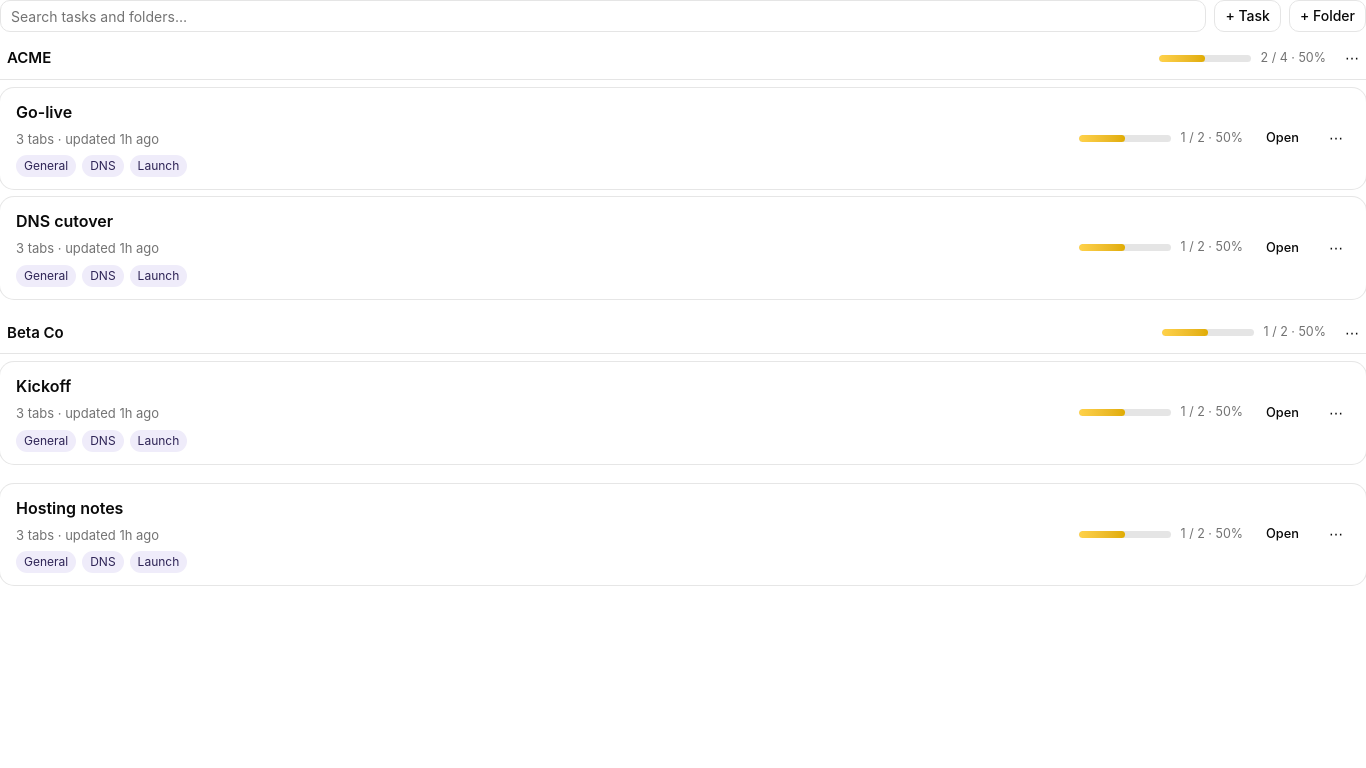
Scenario: TaskTree › clears the refusal once a later write succeeds
Step 1. Click the button "+ Folder" → (1327,16), box [1289, 0, 1365, 32]
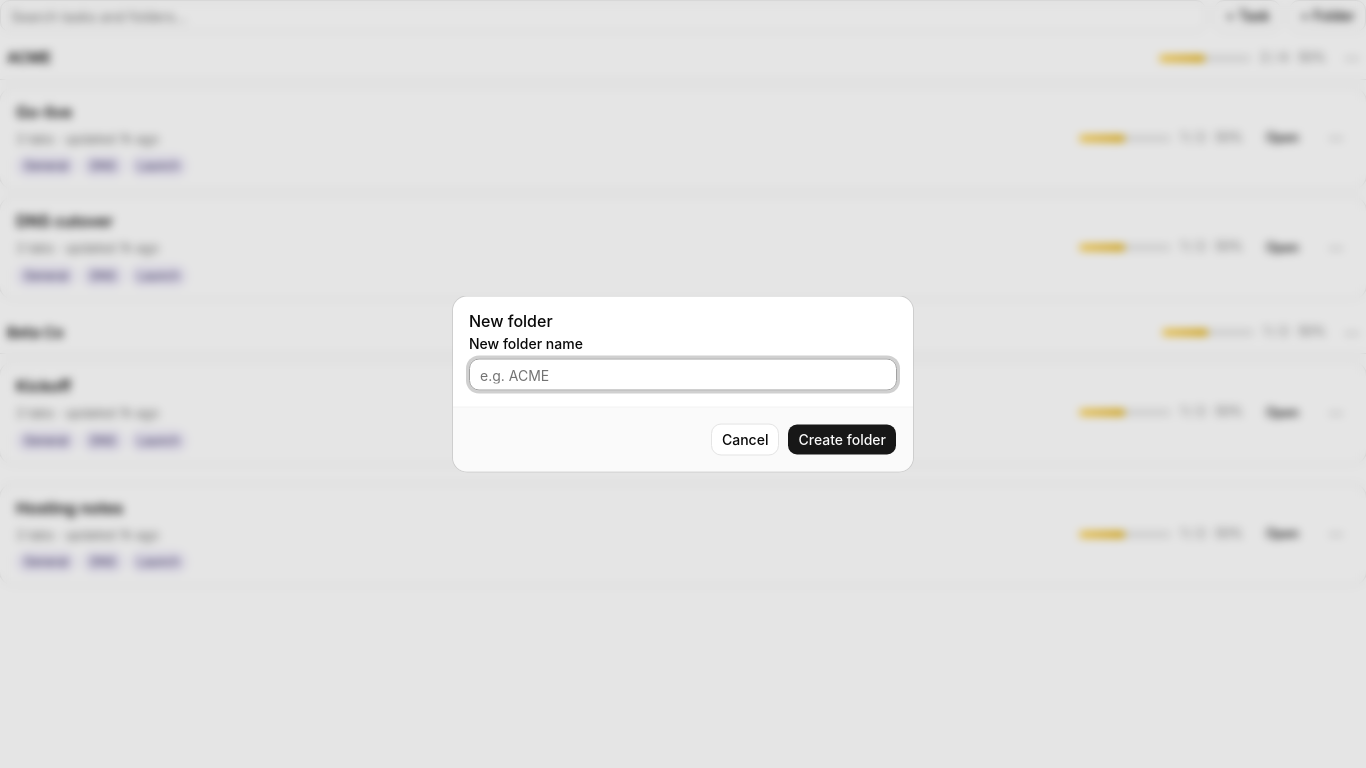
Step 2. Type "Gamma" into the field labelled "New folder name" → (683,374), box [469, 358, 897, 390]
Then press Enter
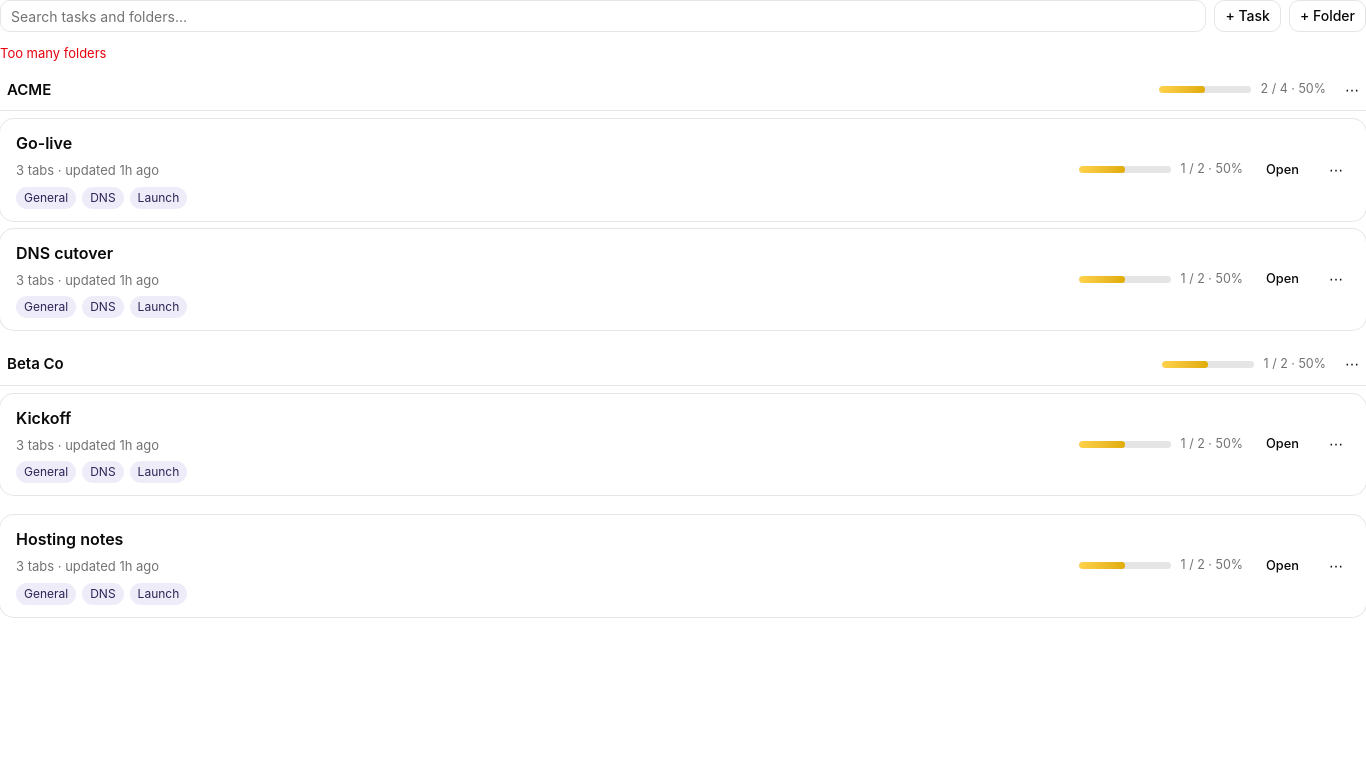
Step 3. Click the button "+ Folder" → (1327,16), box [1289, 0, 1365, 32]
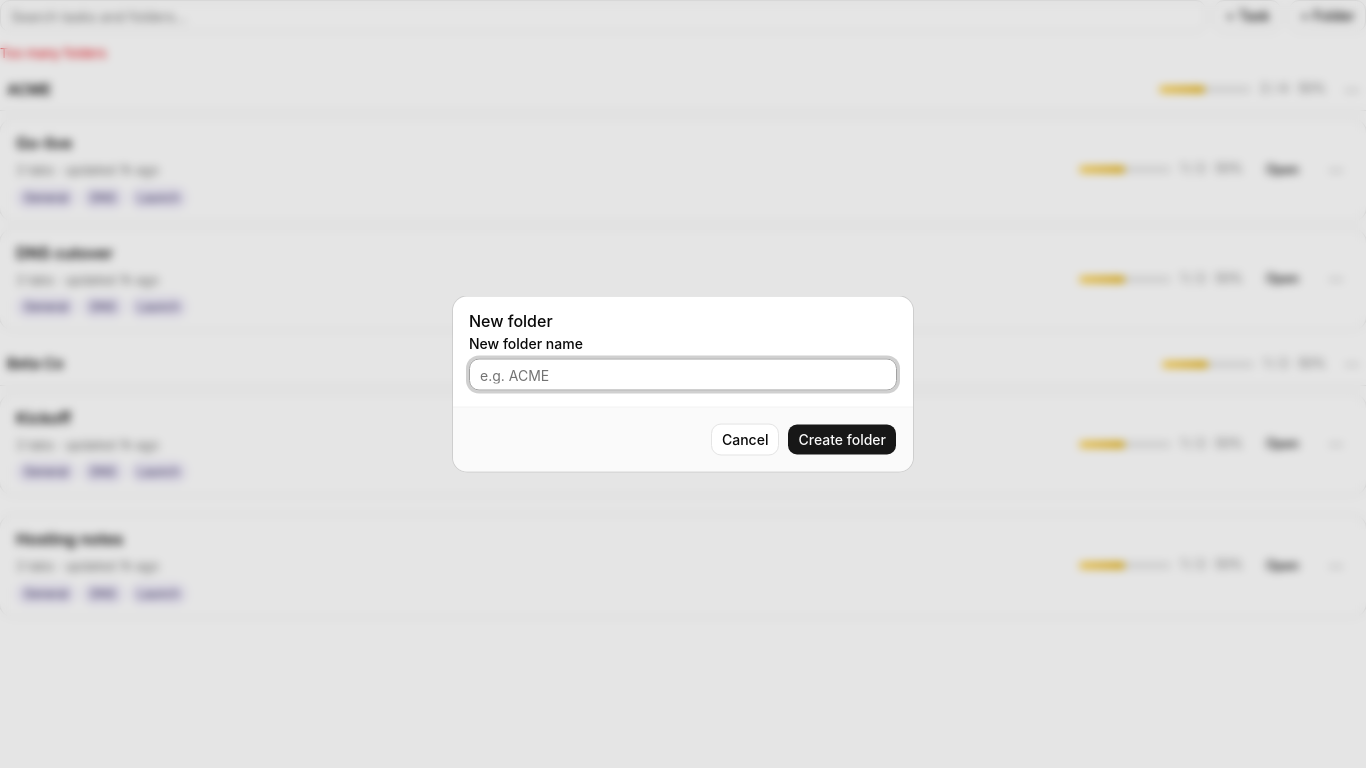
Step 4. Type "Delta" into the field labelled "New folder name" → (683,374), box [469, 358, 897, 390]
Then press Enter
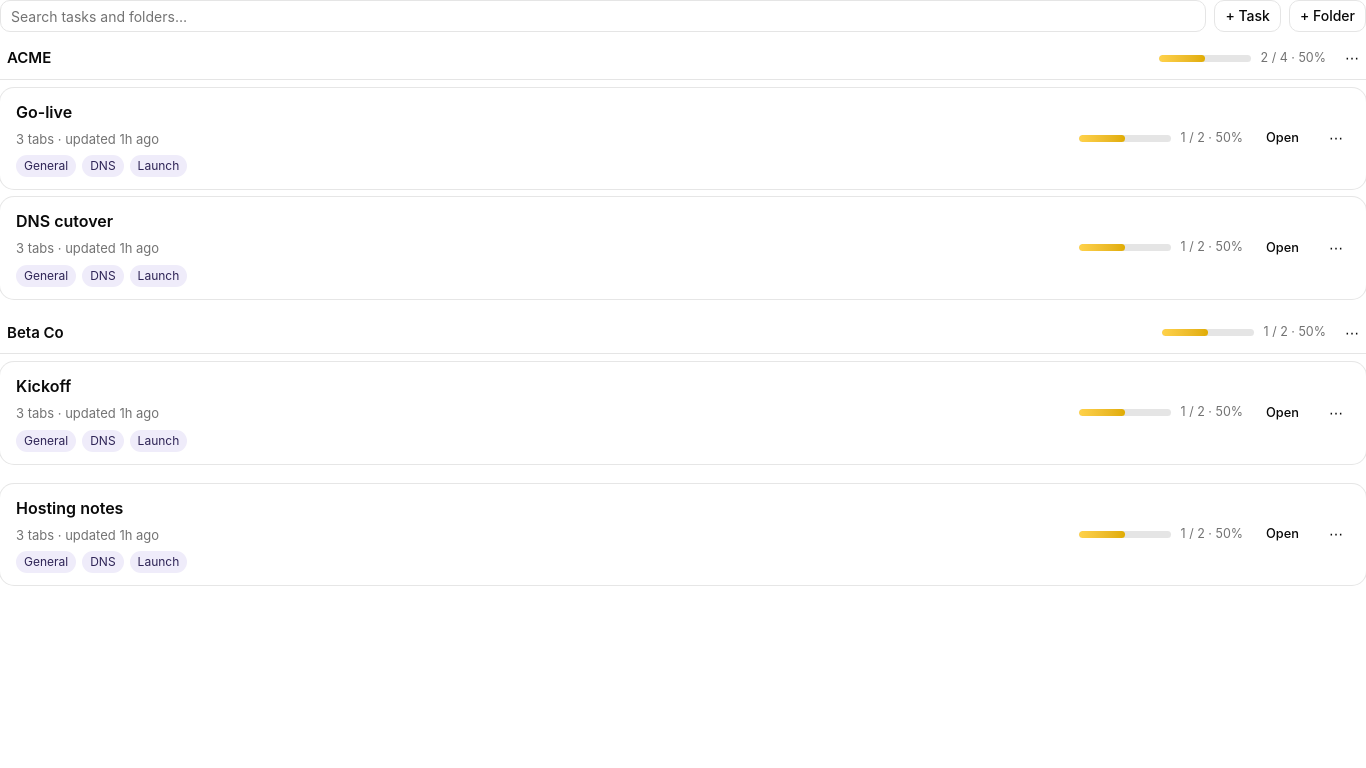
Result: the message "Too many folders" is gone
